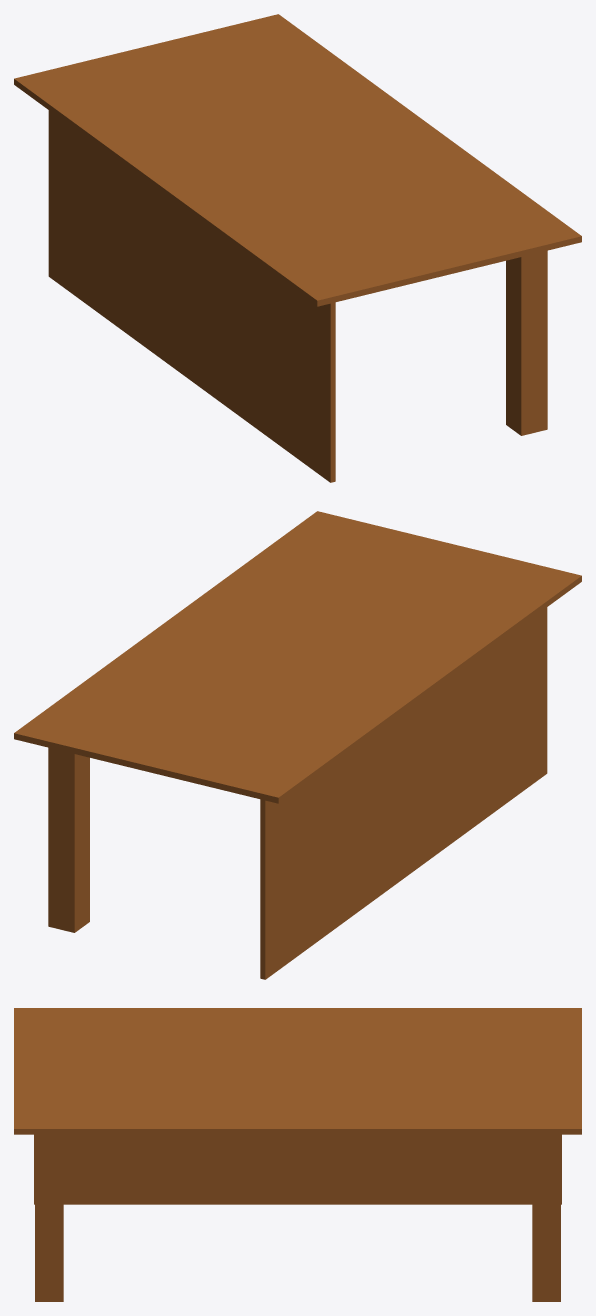
The model's file is desk_color.fbx.
3 views of the same model, one above another, from view 1: azimuth 30°, elevation 25°; view 2: azimuth 150°, elevation 25°; view 3: azimuth 270°, elevation 25° (orthographic). The views are drawn at different scales.
Parts seen in each view (by area): view 1: deskboard, backboard, leg; view 2: deskboard, backboard, leg; view 3: deskboard, backboard, leg.
Boxes of the visible parts, x1=… form: deskboard: x1=14, y1=14, x2=581, y2=306; backboard: x1=48, y1=110, x2=335, y2=482; leg: x1=506, y1=250, x2=547, y2=435; deskboard: x1=14, y1=511, x2=581, y2=803; backboard: x1=260, y1=607, x2=547, y2=979; leg: x1=48, y1=747, x2=89, y2=932; deskboard: x1=14, y1=1008, x2=581, y2=1134; backboard: x1=34, y1=1134, x2=561, y2=1204; leg: x1=35, y1=1134, x2=560, y2=1301.
Size of the model in its own units: 100 by 70.78 by 199.
